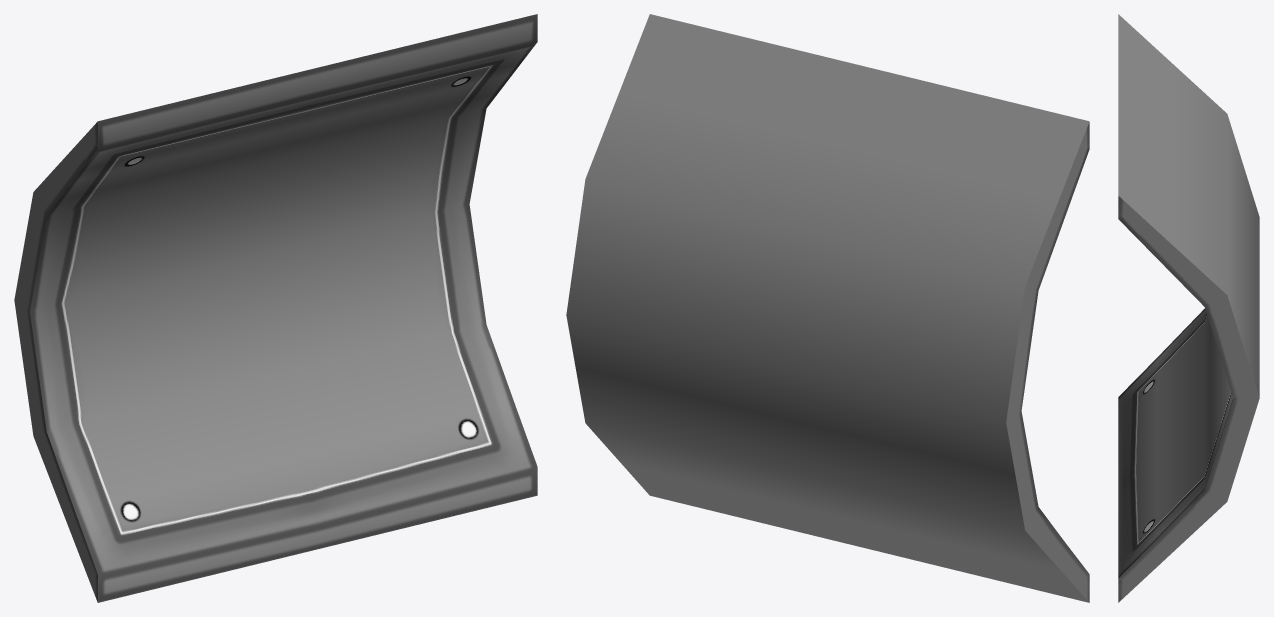
The model's file is space_wall.gltf.
3 views of the same model, side by side, from view 1: azimuth 30°, elevation 25°; view 2: azimuth 150°, elevation 25°; view 3: azimuth 270°, elevation 25° (orthographic). The views are drawn at different scales.
Parts seen in each view (by area): view 1: space_wall_glb; view 2: space_wall_glb; view 3: space_wall_glb.
Boxes of the visible parts, <box> form: space_wall_glb: <box>14,14,537,602</box>; space_wall_glb: <box>566,14,1089,602</box>; space_wall_glb: <box>1118,14,1259,602</box>.
Size of what is drawn, in the model's own units: 4 by 4.19 by 1.32.
Materials: 1 (1 with a texture image).
